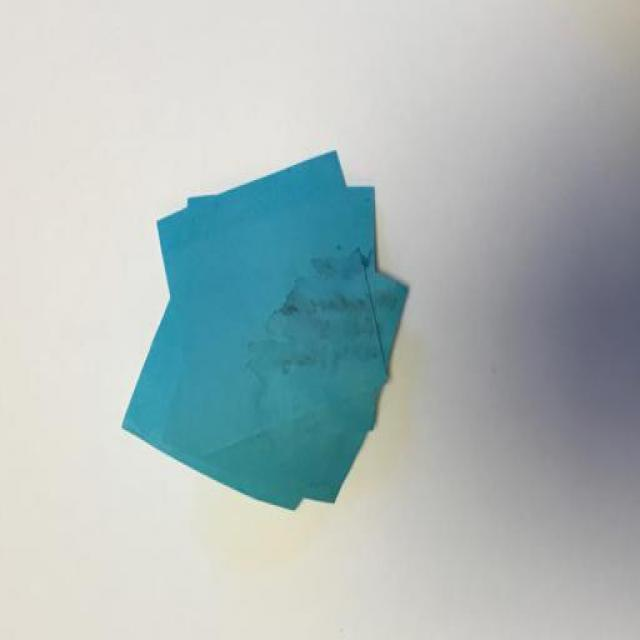paper: (130, 149, 417, 513)
